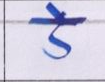e_matra: (46, 2, 69, 18)
